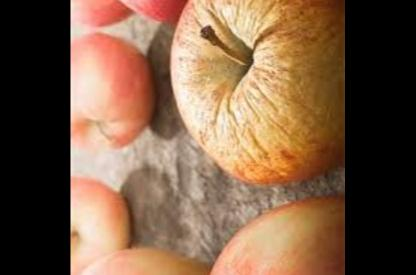defect: (165, 0, 333, 187)
